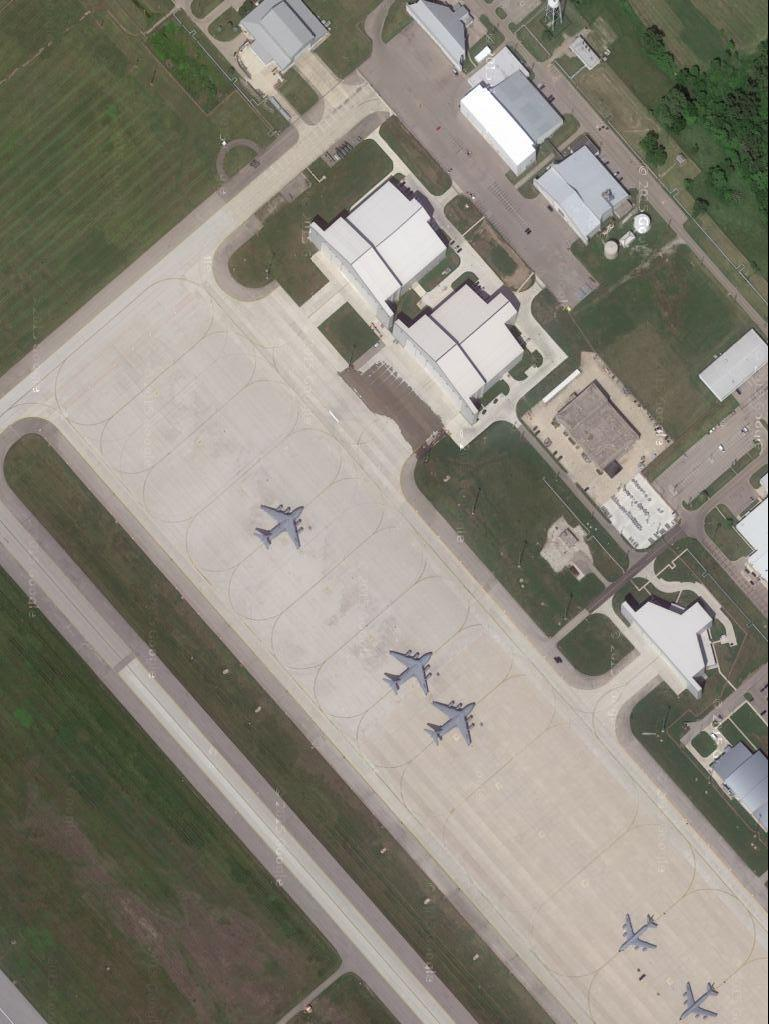C-17: (423, 692, 479, 751), (251, 499, 307, 557), (380, 647, 436, 699)
KC-135: (617, 908, 663, 958), (675, 977, 724, 1022)
